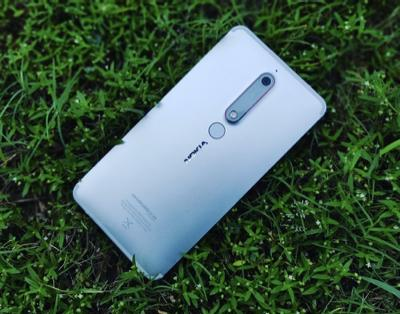Mobile Phone: (71, 23, 327, 280)
